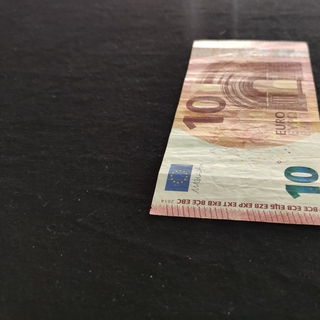10EUROFront: (149, 38, 320, 227)
